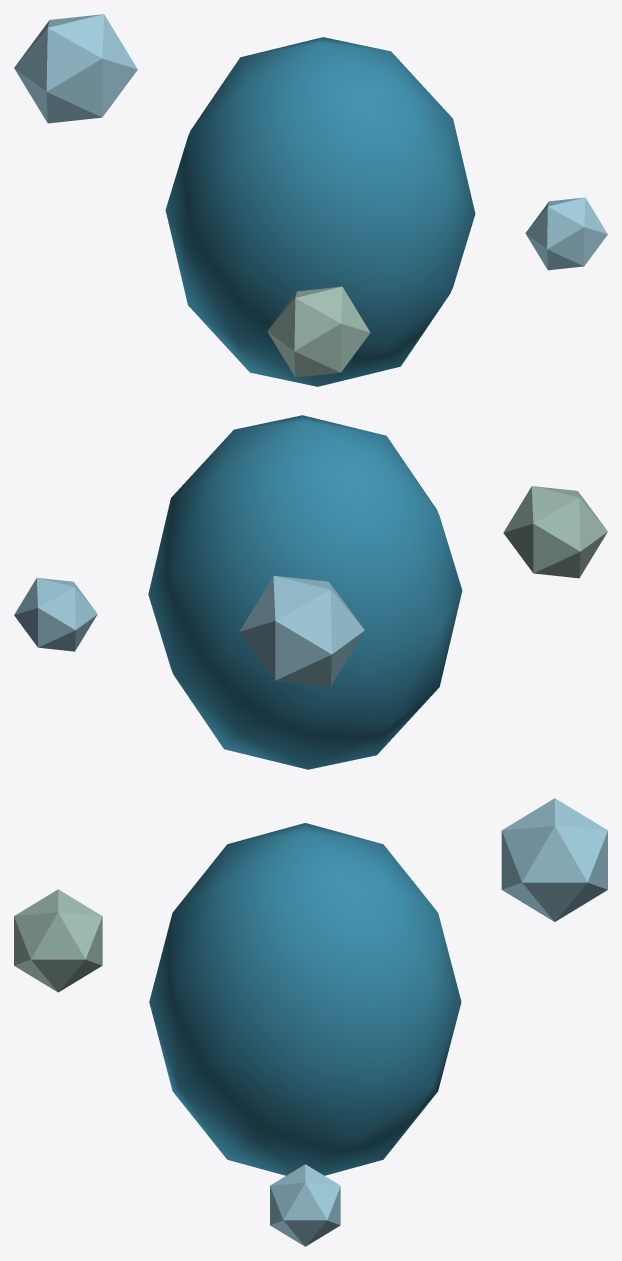
File: landmark.glb
3 renders of one model, top to bottom at view 1: azimuth 30°, elevation 25°; view 2: azimuth 150°, elevation 25°; view 3: azimuth 270°, elevation 25°, orthographic.
Parts seen in each view (by area): view 1: landmark_core_4, landmark_orbit_2, landmark_orbit_1, landmark_orbit_0; view 2: landmark_core_4, landmark_orbit_2, landmark_orbit_1, landmark_orbit_0; view 3: landmark_core_4, landmark_orbit_2, landmark_orbit_1, landmark_orbit_0.
Boxes of the visible parts, left/top/right/bottom form: landmark_core_4: left=165, top=37, right=475, bottom=386; landmark_orbit_2: left=14, top=14, right=137, bottom=123; landmark_orbit_1: left=267, top=286, right=370, bottom=377; landmark_orbit_0: left=525, top=197, right=607, bottom=270; landmark_core_4: left=148, top=415, right=462, bottom=769; landmark_orbit_2: left=239, top=575, right=364, bottom=686; landmark_orbit_1: left=503, top=486, right=607, bottom=578; landmark_orbit_0: left=14, top=577, right=97, bottom=651; landmark_core_4: left=149, top=823, right=461, bottom=1175; landmark_orbit_2: left=501, top=798, right=607, bottom=921; landmark_orbit_1: left=14, top=889, right=102, bottom=992; landmark_orbit_0: left=270, top=1164, right=340, bottom=1246.
Size of what is drawn, in the model's own units: 3.96 by 2.88 by 4.57.
